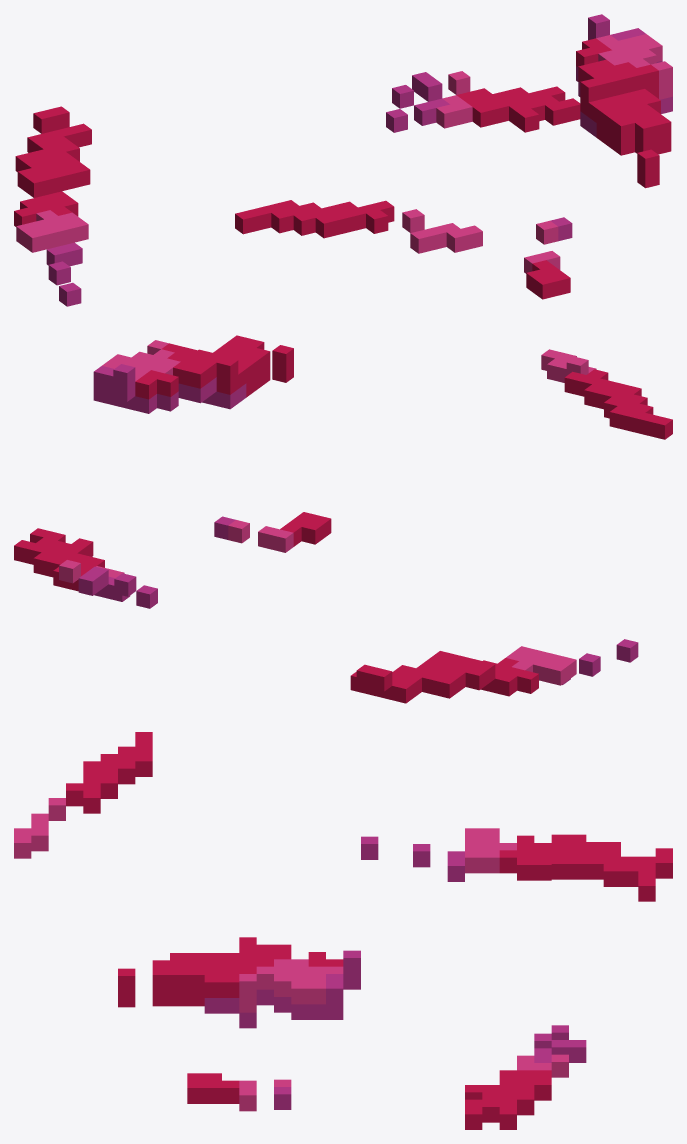
The model's file is mon-0-Boss.obj.
3 renders of one model, top to bottom at view 1: azimuth 30°, elevation 25°; view 2: azimuth 150°, elevation 25°; view 3: azimuth 270°, elevation 25°, orthographic. The views are drawn at different scales.
Parts seen in each view (by area): view 1: Boss; view 2: Boss; view 3: Boss.
Part boxes in pixels (x1,y1,x2,y2): Boss: (14, 14, 672, 306); Boss: (14, 335, 672, 703); Boss: (14, 732, 672, 1129).
Size of the model in its own units: 4 by 1.3 by 3.8.
Materials: 1 (1 with a texture image).
